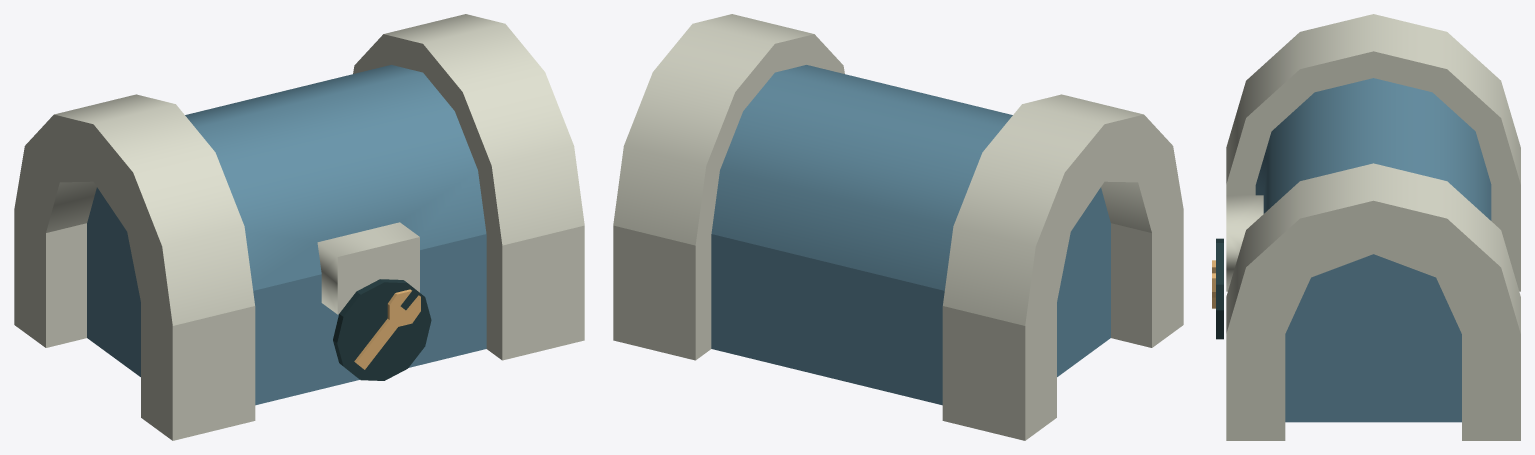
The model's file is workshop.glb.
The picture shows the model from 3 angles, left to right: view 1: azimuth 30°, elevation 25°; view 2: azimuth 150°, elevation 25°; view 3: azimuth 270°, elevation 25°; orthographic projection. The views are drawn at different scales.
Parts seen in each view (by area): view 1: lid, chest, category badge, emblem; view 2: lid, chest; view 3: lid, chest, category badge.
Part boxes in pixels (bbox=[...]): lid: bbox=[14, 14, 584, 325]; chest: bbox=[14, 210, 584, 440]; category badge: bbox=[333, 279, 431, 380]; emblem: bbox=[354, 289, 420, 369]; lid: bbox=[613, 14, 1183, 325]; chest: bbox=[613, 210, 1183, 440]; lid: bbox=[1226, 14, 1520, 334]; chest: bbox=[1226, 184, 1520, 440]; category badge: bbox=[1216, 238, 1223, 339].
Bounding box in the file's own units: 1.91 × 1.15 × 1.34.
